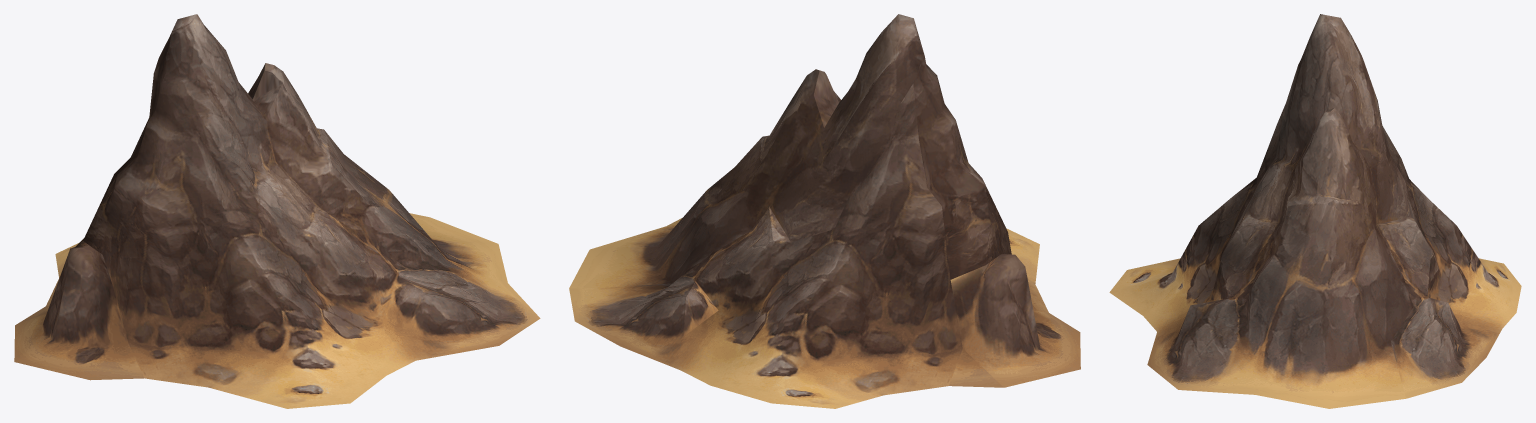
File: xsm_shitou_1.FBX
3 views of the same model, side by side, from view 1: azimuth 30°, elevation 25°; view 2: azimuth 150°, elevation 25°; view 3: azimuth 270°, elevation 25° (orthographic). The views are drawn at different scales.
Parts seen in each view (by area): view 1: xsm_shitou_1; view 2: xsm_shitou_1; view 3: xsm_shitou_1.
Part boxes in pixels (x1,y1,x2,y2): xsm_shitou_1: (14, 14, 540, 408); xsm_shitou_1: (569, 14, 1080, 408); xsm_shitou_1: (1109, 14, 1521, 408).
Bounding box in the file's own units: 354 × 213 × 300.
